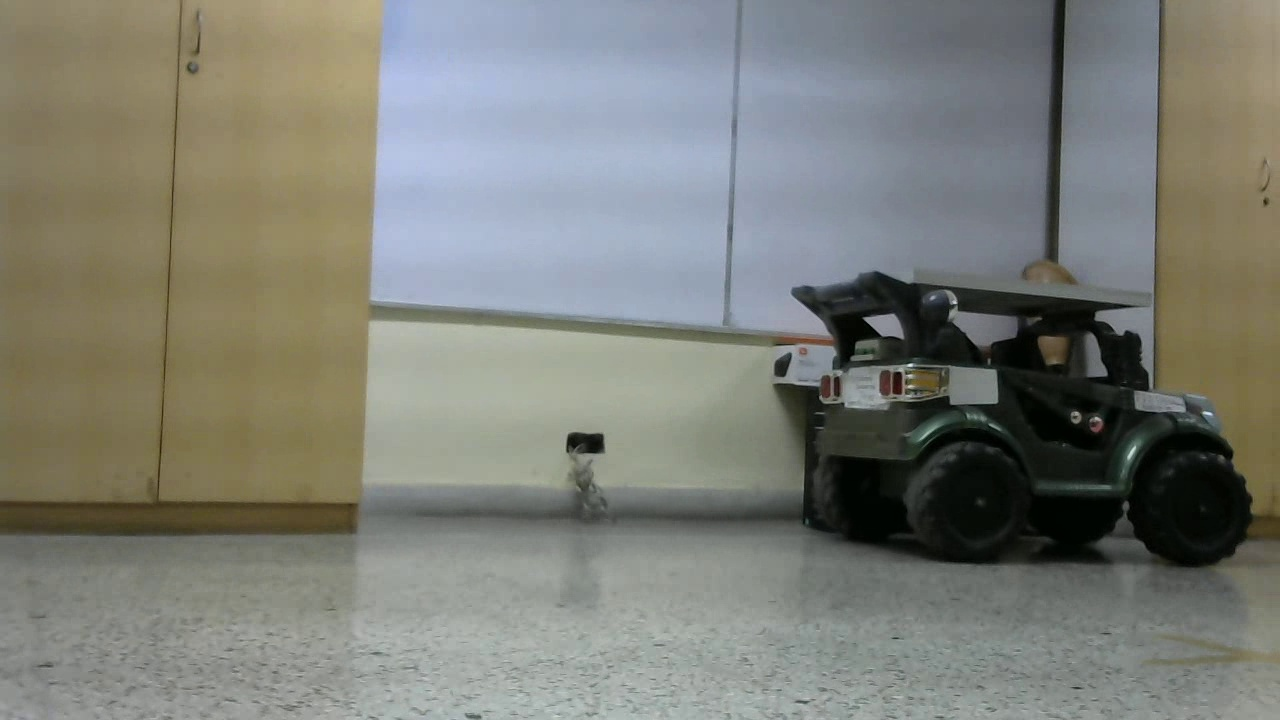chair: (1074, 1, 1280, 667)
